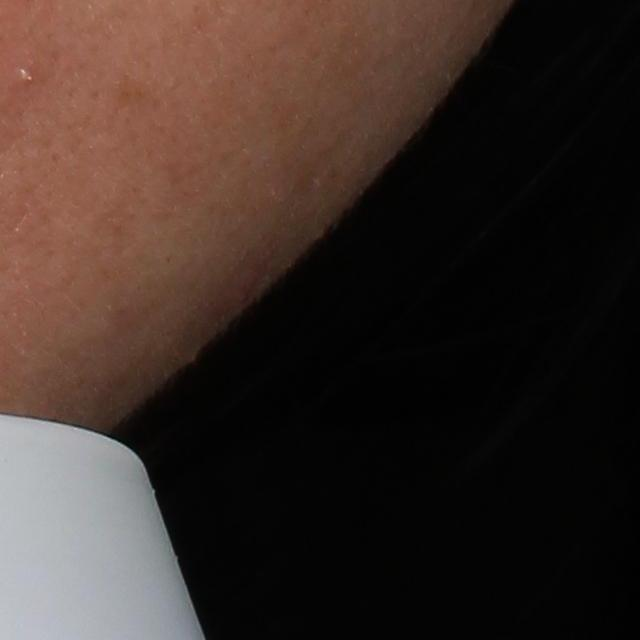pustule: (14, 56, 37, 86)
